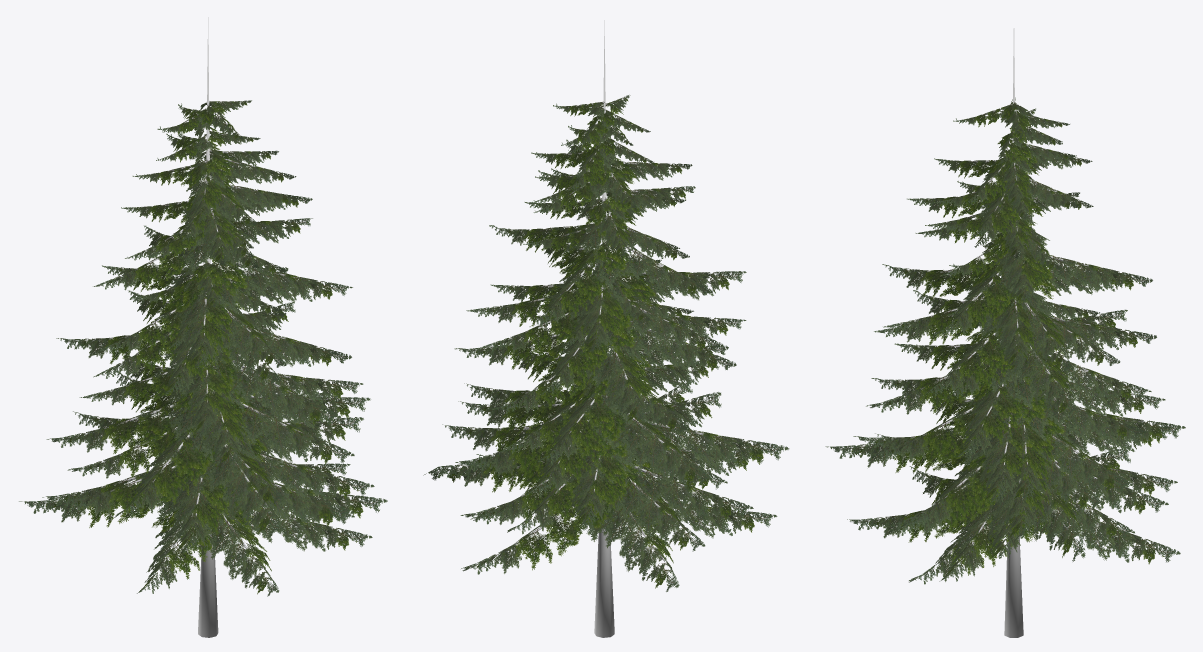
The model's file is Tree2.018.fbx.
3 renders of one model, left to right at view 1: azimuth 30°, elevation 25°; view 2: azimuth 150°, elevation 25°; view 3: azimuth 270°, elevation 25°, orthographic.
Parts seen in each view (by area): view 1: Tree2.018; view 2: Tree2.018; view 3: Tree2.018.
Part boxes in pixels (<box>): Tree2.018: <box>19,17,387,637</box>; Tree2.018: <box>423,20,789,637</box>; Tree2.018: <box>825,28,1185,637</box>.
Bounding box in the file's own units: 1.57 × 2.91 × 1.57.
